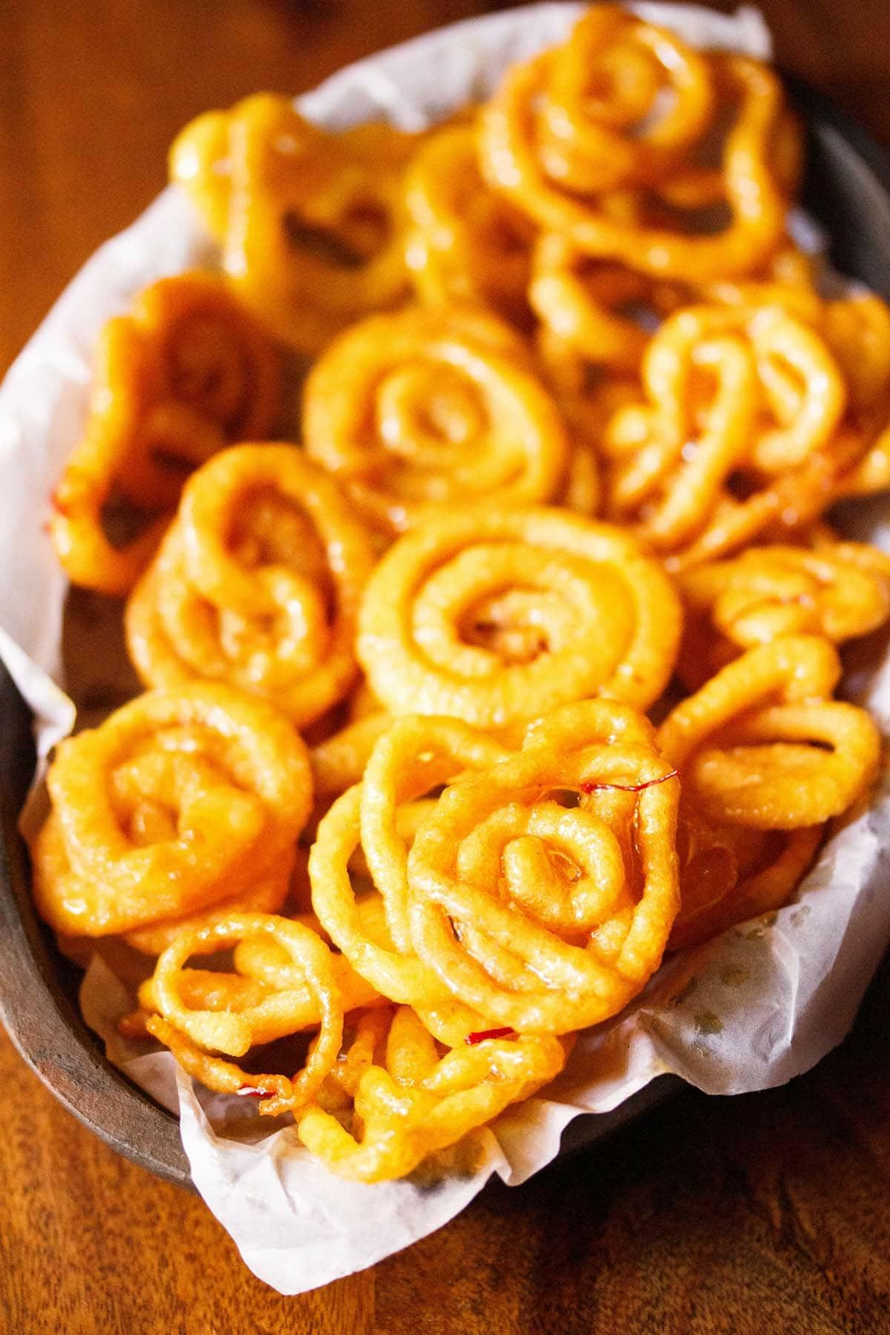Jalebi: (0, 0, 890, 1190)
